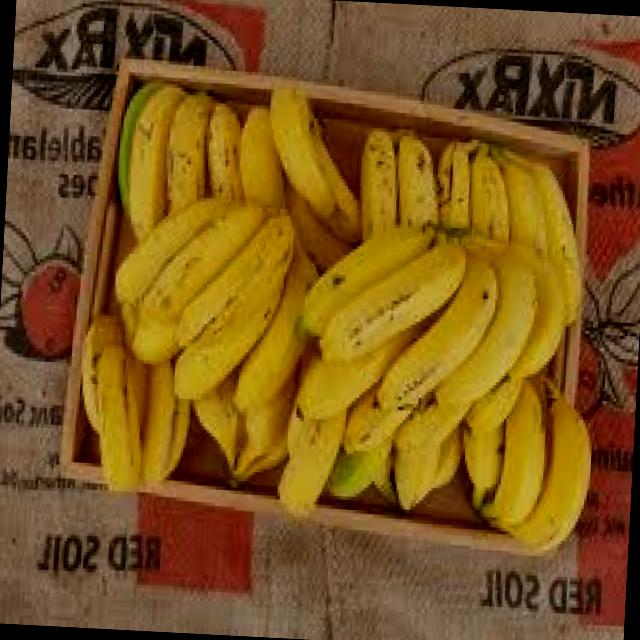Banana: (294, 215, 568, 460), (113, 79, 365, 266), (108, 195, 322, 414), (354, 134, 585, 321), (457, 378, 598, 556), (73, 308, 195, 492)
